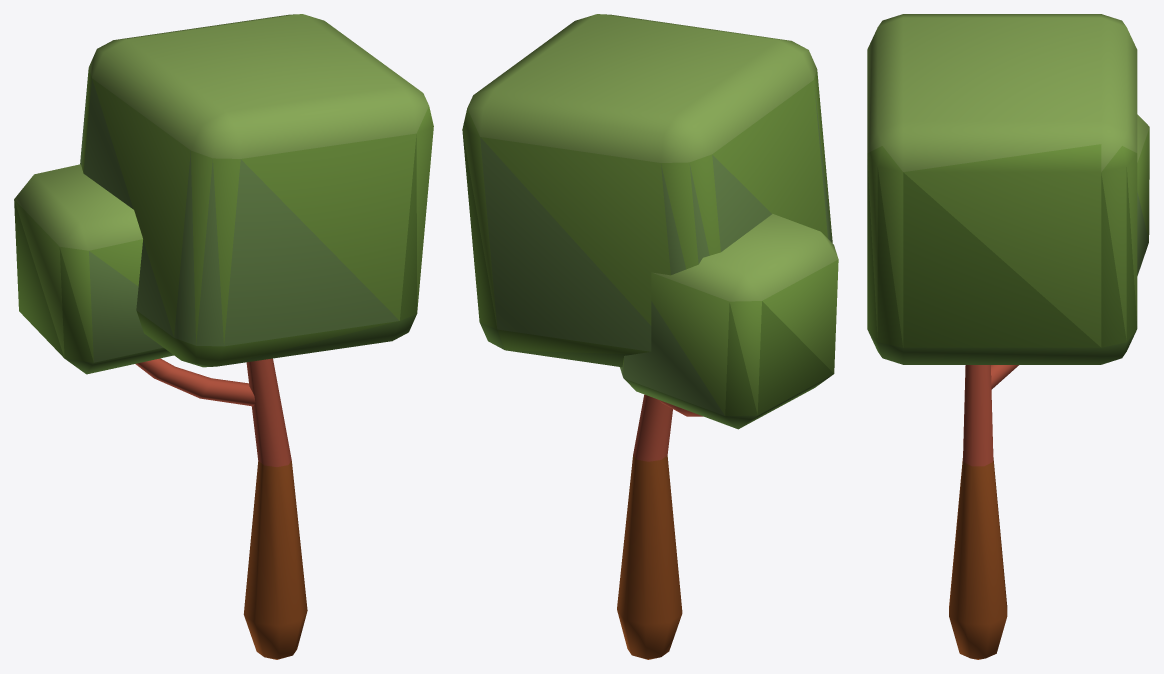
Rendered from itch_kaykit_forest_tree_2_a_color1.glb.
The picture shows the model from 3 angles, left to right: view 1: azimuth 30°, elevation 25°; view 2: azimuth 150°, elevation 25°; view 3: azimuth 270°, elevation 25°; orthographic projection. The views are drawn at different scales.
Parts seen in each view (by area): view 1: Tree_2_A_Color1; view 2: Tree_2_A_Color1; view 3: Tree_2_A_Color1.
Boxes of the visible parts, <box> form: Tree_2_A_Color1: <box>14,14,433,659</box>; Tree_2_A_Color1: <box>462,14,838,659</box>; Tree_2_A_Color1: <box>867,14,1149,659</box>.
Size of the model in its own units: 1.22 by 2.19 by 0.9385.
